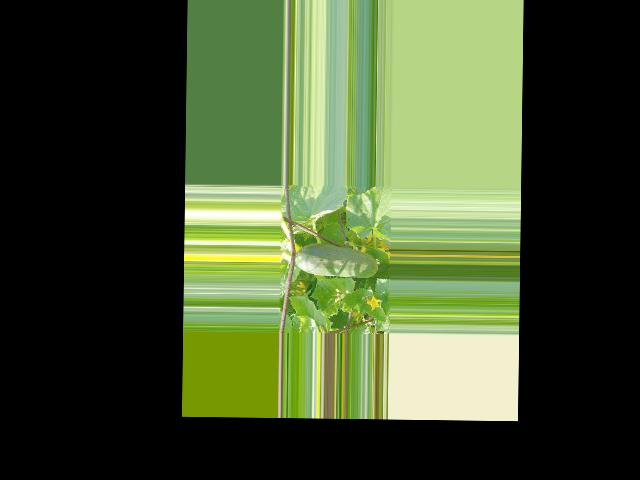cucumber: (295, 241, 378, 277)
